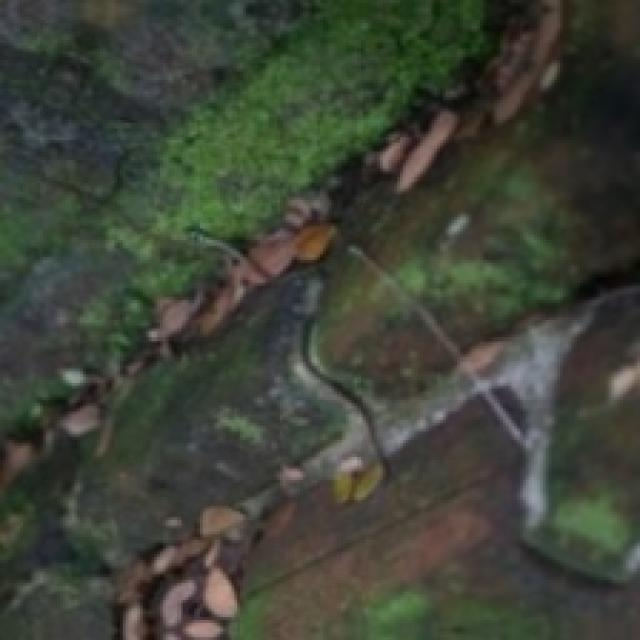paradise tree snake: (91, 166, 474, 537), (120, 540, 243, 637), (409, 277, 574, 346), (303, 431, 351, 483)
